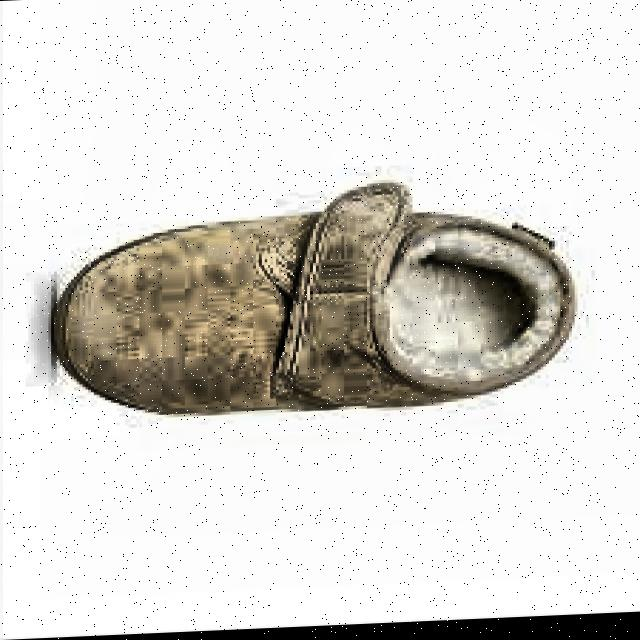shoes: (47, 159, 580, 429)
